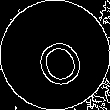O_NW: (24, 23, 86, 87)
